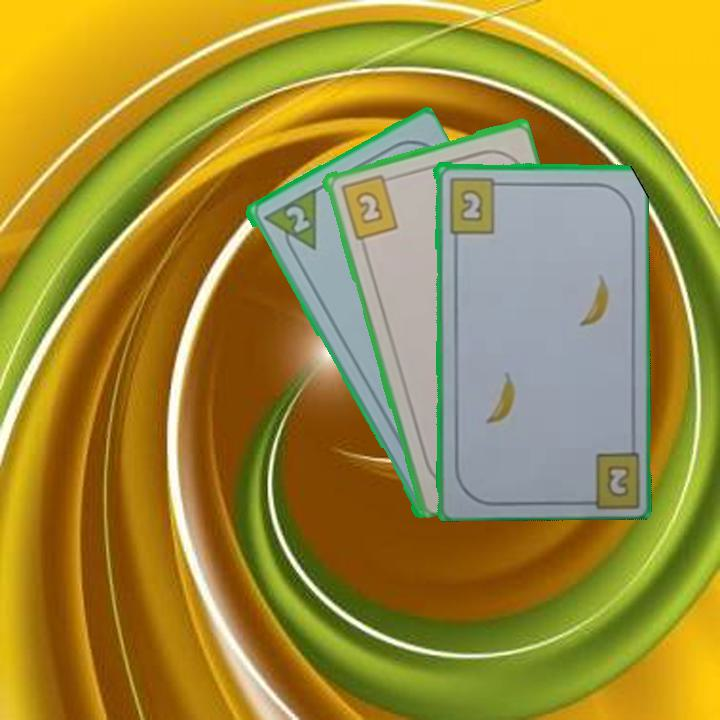2b: (336, 170, 400, 242), (445, 174, 506, 235), (603, 461, 632, 500)
2p: (258, 185, 320, 262)
